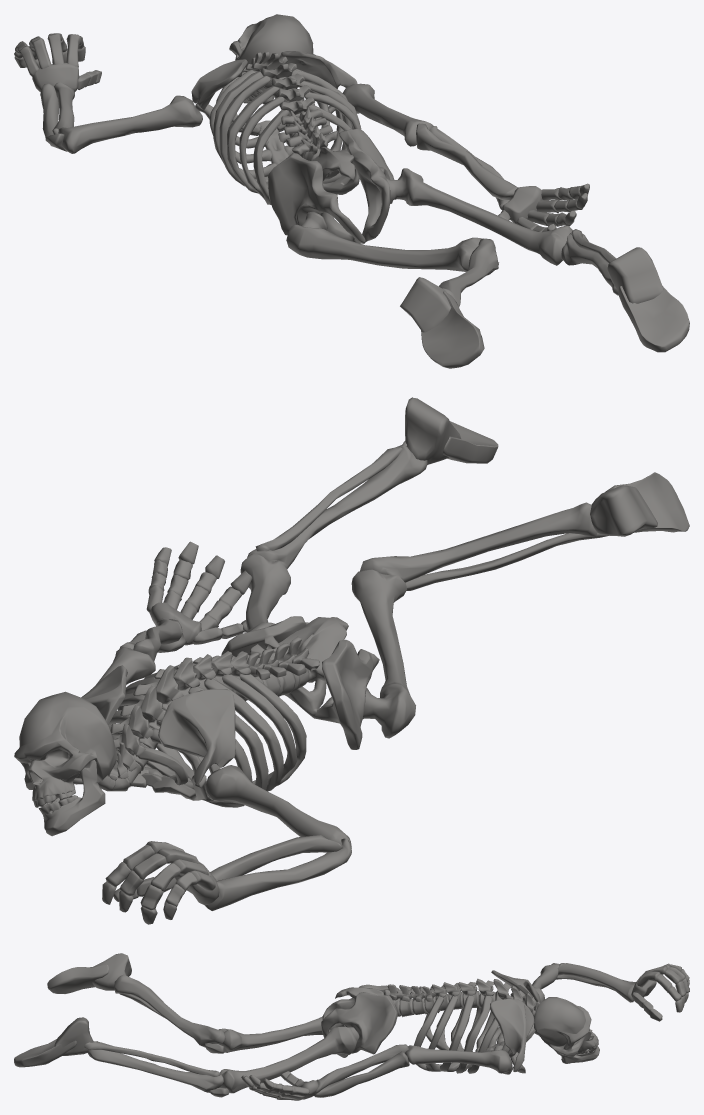
3 renders of one model, top to bottom at view 1: azimuth 30°, elevation 25°; view 2: azimuth 150°, elevation 25°; view 3: azimuth 270°, elevation 25°, orthographic. The views are drawn at different scales.
Visible parts, largest first — view 1: SM_GoblinSkeleton_08_LOD0; view 2: SM_GoblinSkeleton_08_LOD0; view 3: SM_GoblinSkeleton_08_LOD0.
Boxes of the visible parts, bbox=[...] form: SM_GoblinSkeleton_08_LOD0: bbox=[14, 14, 689, 368]; SM_GoblinSkeleton_08_LOD0: bbox=[14, 397, 689, 924]; SM_GoblinSkeleton_08_LOD0: bbox=[14, 953, 689, 1100].
Size of the model in its own units: 0.9693 by 0.3132 by 2.19.
1 material, 1 textured.
